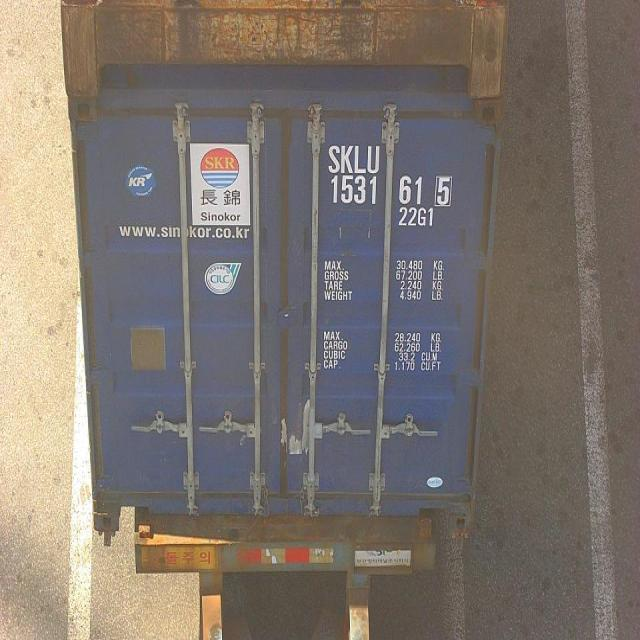ISO: (398, 206, 434, 228)
container_number: (326, 138, 454, 206)
